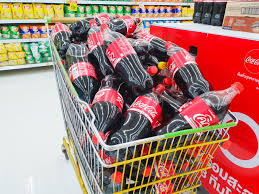Coca-Cola: (169, 42, 198, 91), (98, 93, 155, 115), (195, 105, 213, 125), (72, 64, 101, 76)
bottle: (169, 83, 237, 149), (105, 27, 146, 88)
plastic: (174, 85, 234, 150)
